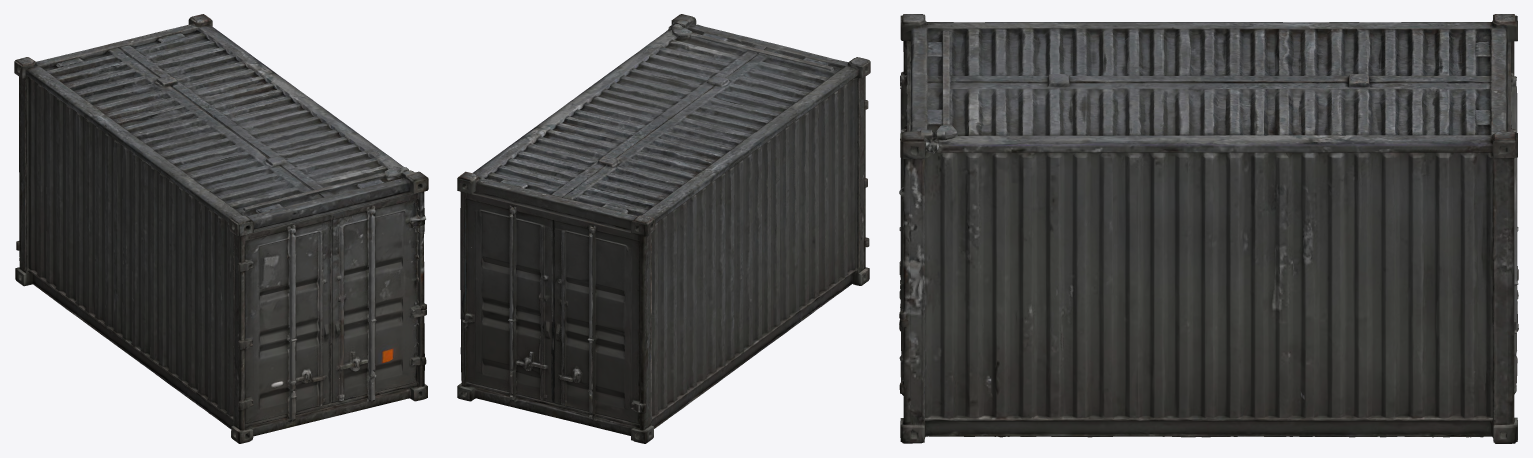
The model's file is container.glb.
3 views of the same model, side by side, from view 1: azimuth 30°, elevation 25°; view 2: azimuth 150°, elevation 25°; view 3: azimuth 270°, elevation 25° (orthographic). The views are drawn at different scales.
Size of the model in its own units: 0.4791 by 0.5363 by 0.9781.
Materials: 1 (1 with a texture image).
